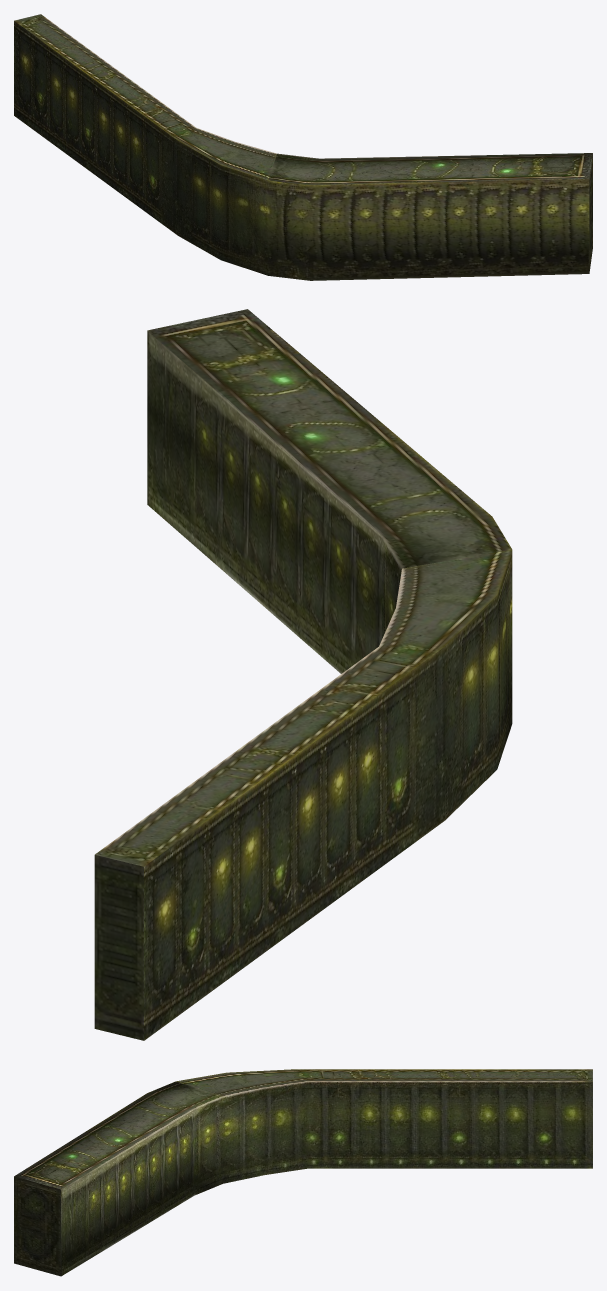
File: ramp_pale_down_left_lvl_1.glb
3 renders of one model, top to bottom at view 1: azimuth 30°, elevation 25°; view 2: azimuth 150°, elevation 25°; view 3: azimuth 270°, elevation 25°, orthographic. The views are drawn at different scales.
Parts seen in each view (by area): view 1: Mesh_0; view 2: Mesh_0; view 3: Mesh_0.
Boxes of the visible parts, <box> form: Mesh_0: <box>14,14,592,280</box>; Mesh_0: <box>94,309,512,1040</box>; Mesh_0: <box>14,1069,592,1276</box>.
Bounding box in the file's own units: 0.1355 × 0.047 × 0.2569.
1 material, 1 textured.
